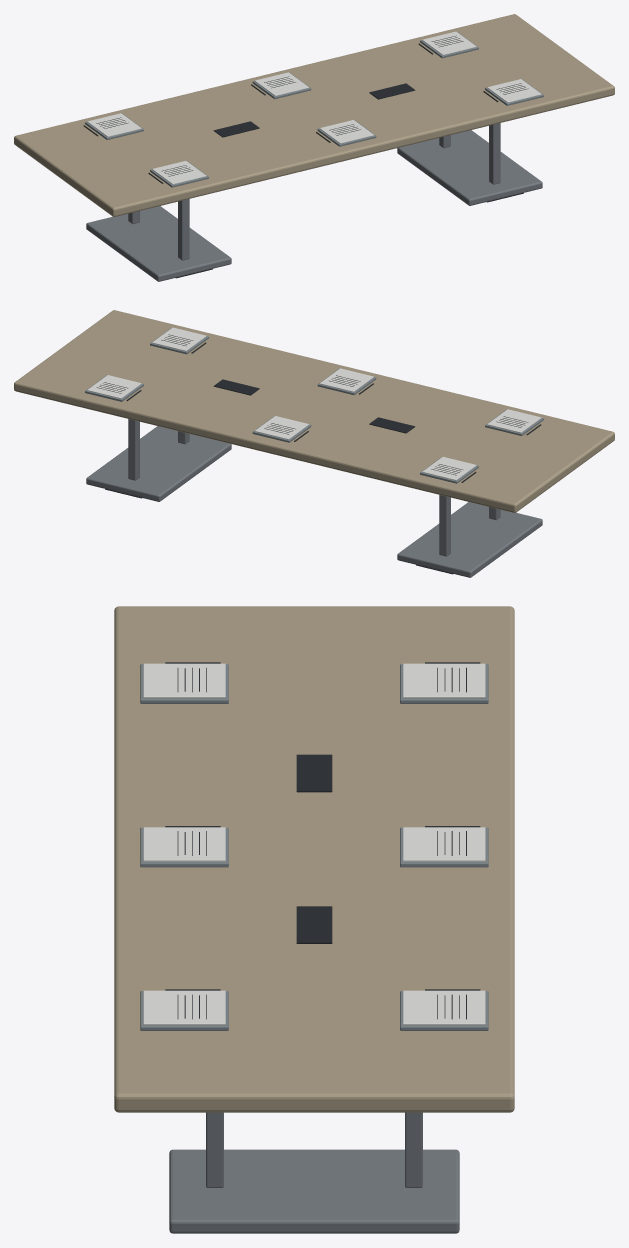
File: BL_ConferenceTable.fbx
3 views of the same model, one above another, from view 1: azimuth 30°, elevation 25°; view 2: azimuth 150°, elevation 25°; view 3: azimuth 270°, elevation 25° (orthographic). The views are drawn at different scales.
Parts seen in each view (by area): view 1: BL_ConferenceTable_LOD0; view 2: BL_ConferenceTable_LOD0; view 3: BL_ConferenceTable_LOD0.
Boxes of the visible parts, x1,y1,x2,y2 form: BL_ConferenceTable_LOD0: [14, 14, 614, 281]; BL_ConferenceTable_LOD0: [14, 310, 614, 577]; BL_ConferenceTable_LOD0: [114, 606, 514, 1233].
Size of what is drawn, in the model's own units: 420 by 81.95 by 145.
